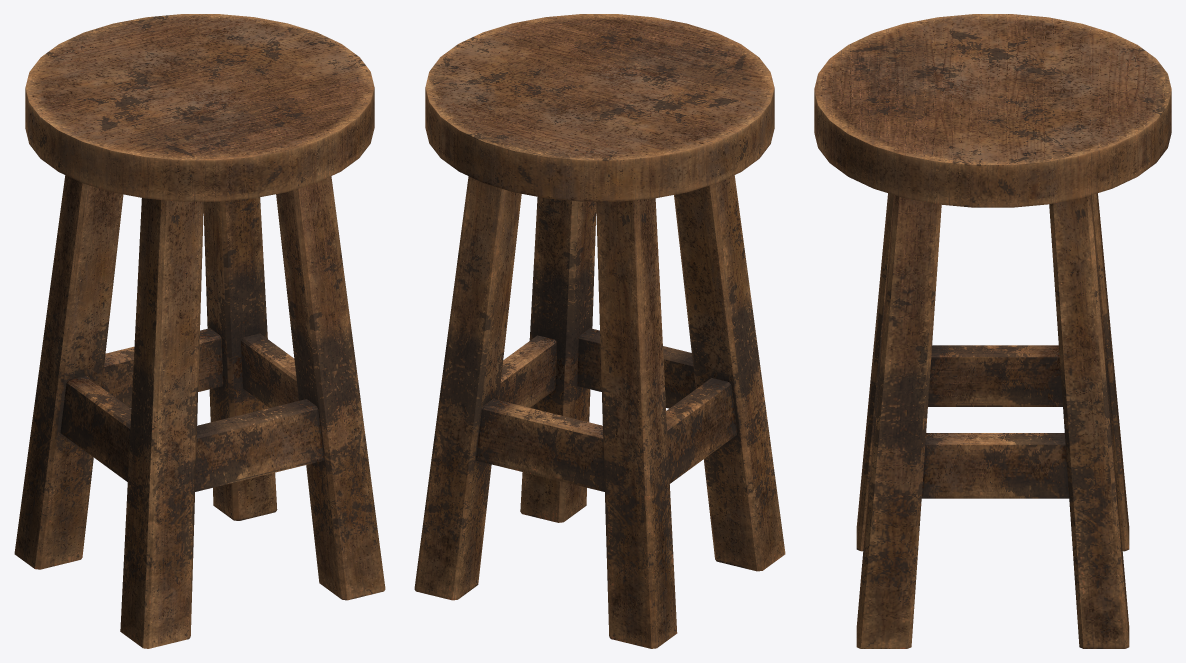
Rendered from Stool_A.fbx.
3 renders of one model, left to right at view 1: azimuth 30°, elevation 25°; view 2: azimuth 150°, elevation 25°; view 3: azimuth 270°, elevation 25°, orthographic. The views are drawn at different scales.
Parts seen in each view (by area): view 1: Stool_A; view 2: Stool_A; view 3: Stool_A.
Part boxes in pixels (x1=…): Stool_A: x1=14, y1=14, x2=385, y2=648; Stool_A: x1=414, y1=14, x2=785, y2=648; Stool_A: x1=814, y1=14, x2=1171, y2=648.
Size of the model in its own units: 30 by 46.14 by 30.
1 material, 1 textured.
